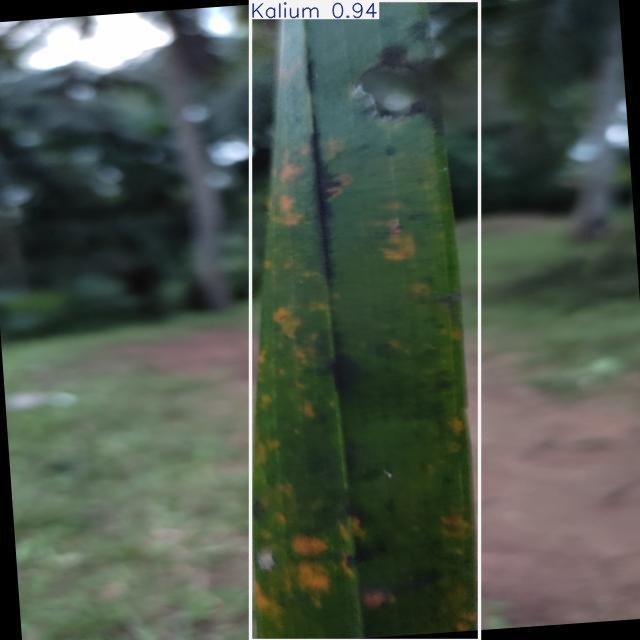Kalium: (250, 1, 479, 640)
